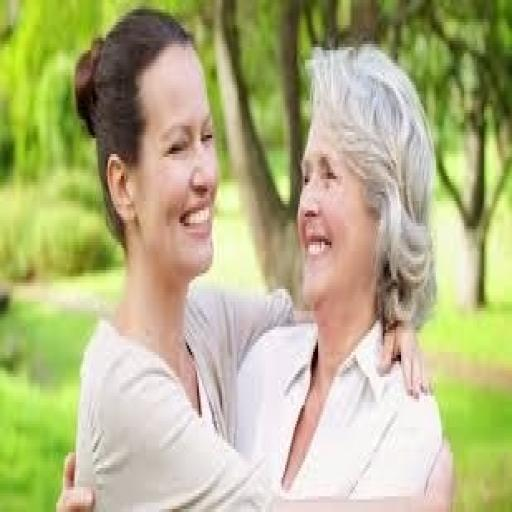hugging: (58, 6, 452, 509)
